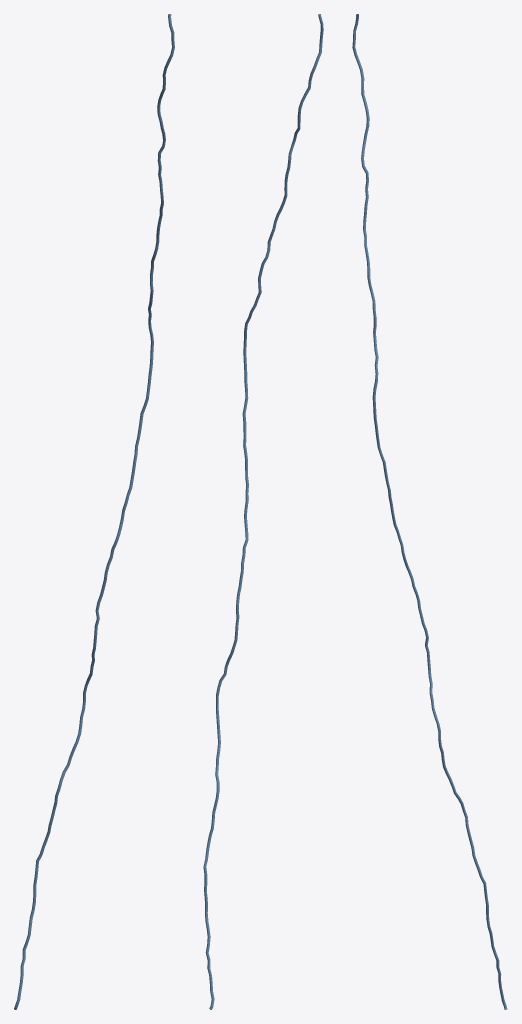
File: sweep45.fbx
The picture shows the model from 3 angles, left to right: view 1: azimuth 90°, elevation 25°; view 2: azimuth 150°, elevation 25°; view 3: azimuth 270°, elevation 25°; orthographic projection. The views are drawn at different scales.
Visible parts, largest first — view 1: sweep45; view 2: sweep45; view 3: sweep45.
Part boxes in pixels (x1,y1,x2,y2): sweep45: (14, 14, 174, 1009); sweep45: (203, 14, 323, 1009); sweep45: (352, 14, 507, 1009).
Bounding box in the file's own units: 0.558 × 7.16 × 1.03.
